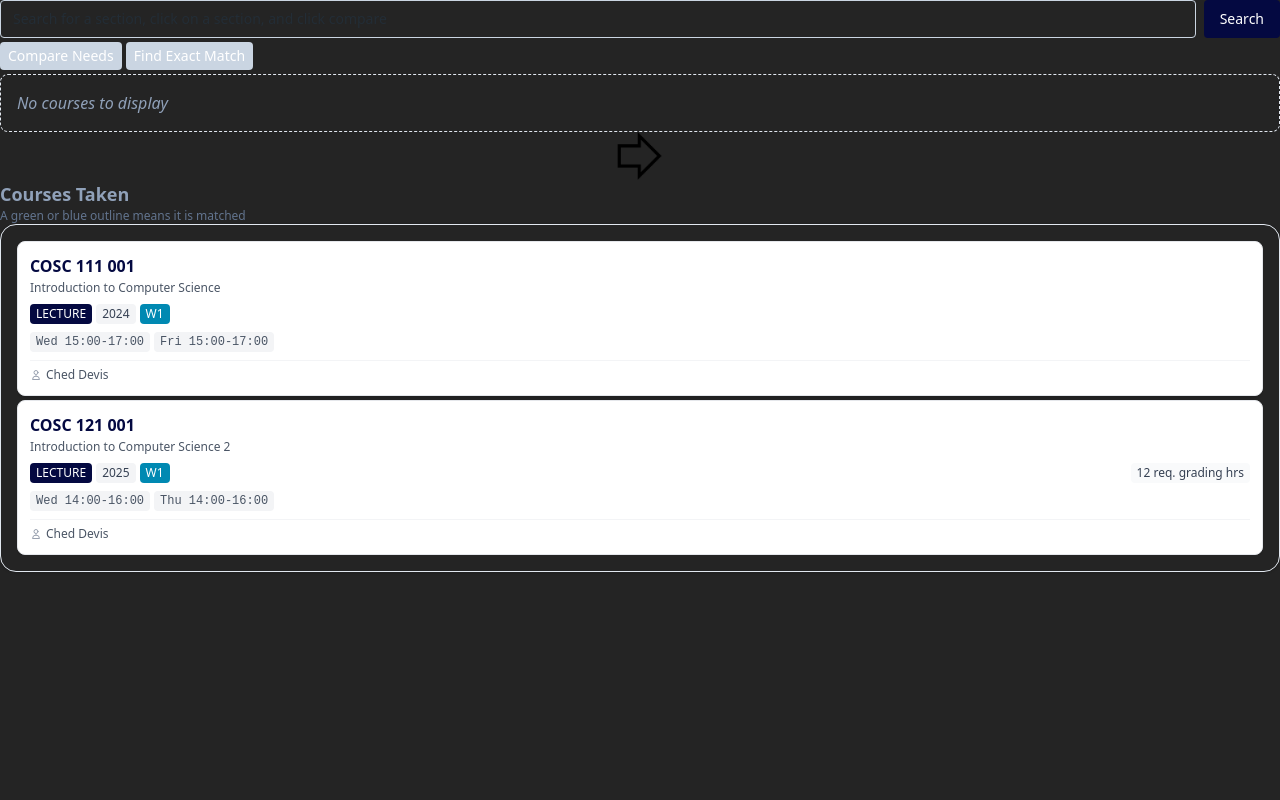
Test case: <Comparer /> › shows “No courses…” before a search, then lists COSC 111 & COSC 121 after clicking Search
The width and height of the screenshot is (1280, 800).
Check: the text "No courses to display" is shown, box top-left (0, 74), bottom-right (1279, 132)
Click the button "Search": (1242,19) top-left (1204, 0), bottom-right (1279, 38)
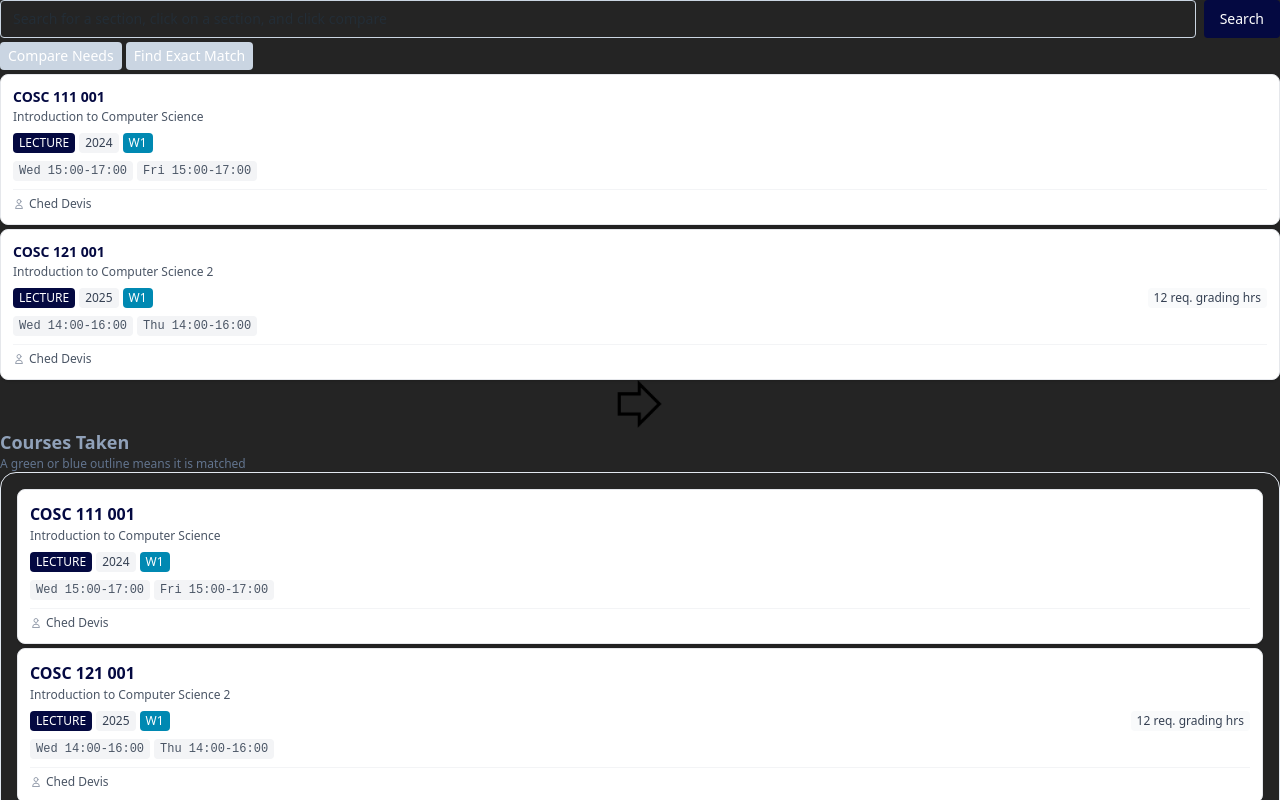
Check: the 1st link "COSC 111 001" is shown, box top-left (13, 87), bottom-right (105, 106)
Check: the 1st link "COSC 121 001" is shown, box top-left (13, 242), bottom-right (105, 261)
